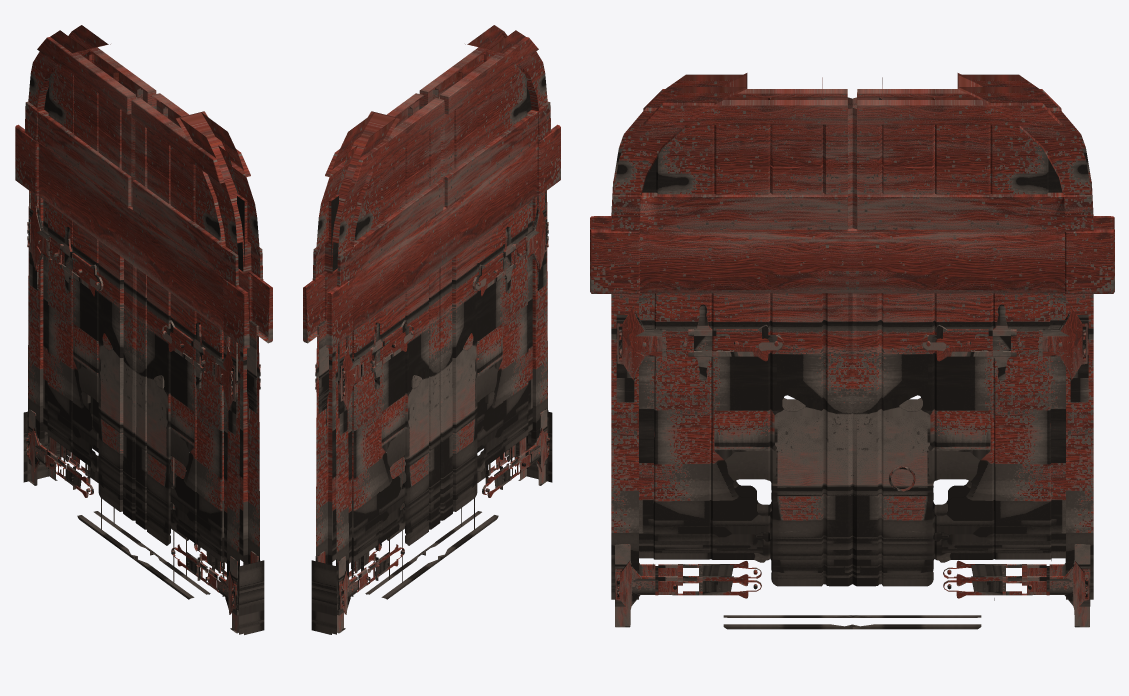
File: door.fbx
The picture shows the model from 3 angles, left to right: view 1: azimuth 30°, elevation 25°; view 2: azimuth 150°, elevation 25°; view 3: azimuth 270°, elevation 25°; orthographic projection. The views are drawn at different scales.
Visible parts, largest first — view 1: Door_woodparts.002, Door_woodparts.001; view 2: Door_woodparts.001, Door_woodparts.002; view 3: Door_woodparts.002, Door_woodparts.001.
Boxes of the visible parts, x1,y1,x2,y2 form: Door_woodparts.002: (127, 90, 272, 634); Door_woodparts.001: (15, 25, 157, 558); Door_woodparts.001: (303, 90, 448, 634); Door_woodparts.002: (418, 25, 560, 558); Door_woodparts.002: (590, 73, 856, 629); Door_woodparts.001: (848, 73, 1114, 629).
Size of the model in its own units: 16.08 by 276 by 202.
5 materials, 5 textured.
